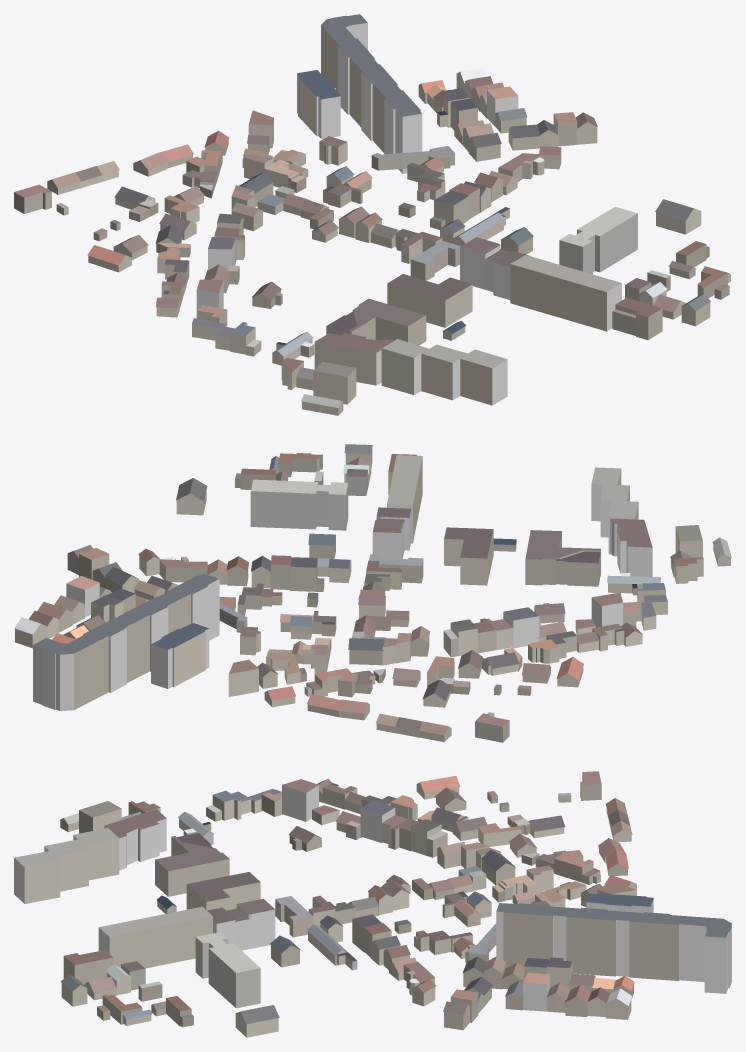
3 renders of one model, top to bottom at view 1: azimuth 30°, elevation 25°; view 2: azimuth 150°, elevation 25°; view 3: azimuth 270°, elevation 25°, orthographic. The views are drawn at different scales.
Parts seen in each view (by area): view 1: tuile; view 2: tuile; view 3: tuile.
Part boxes in pixels (x1,y1,x2,y2): tuile: (14, 14, 730, 415); tuile: (14, 444, 731, 742); tuile: (14, 771, 731, 1037).
Bounding box in the file's own units: 257 × 32.8 × 319.
